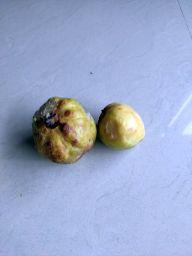guava: (27, 94, 97, 165), (97, 100, 147, 151)
